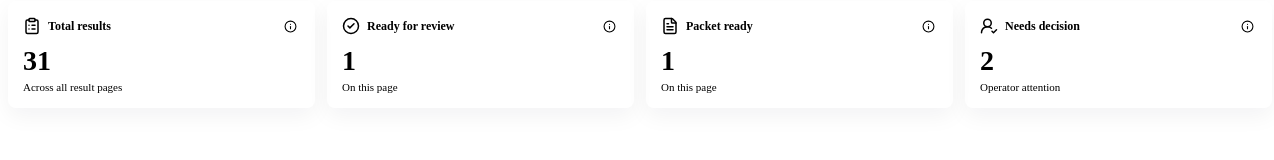
Test: renders compact summary information popovers without changing metric values
Expected: the text "31" is shown, [23,45,51,76]
Click the button named "About total results" at [290, 26], box [280,16,300,36]
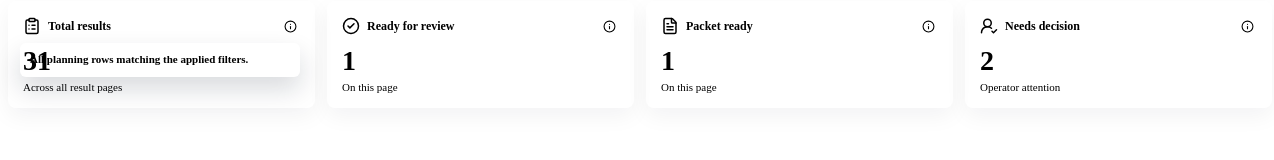
Result: the tooltip reads "All planning rows matching the applied filters." at [30,53,248,65]
